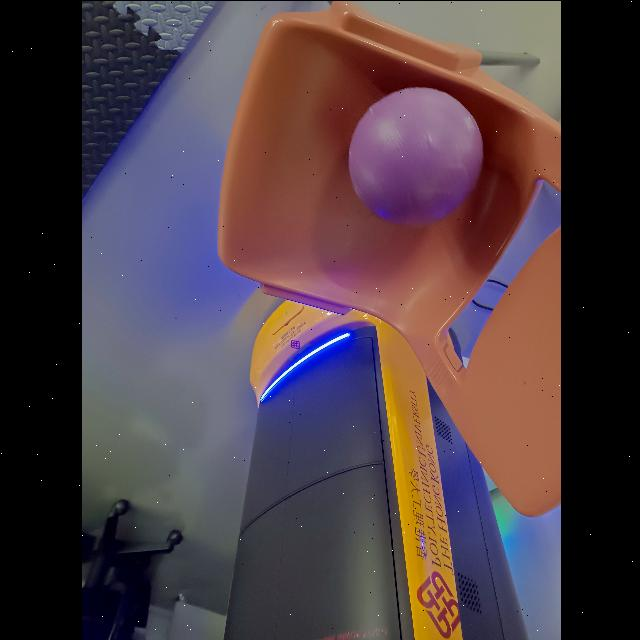P: (346, 86, 482, 226)
